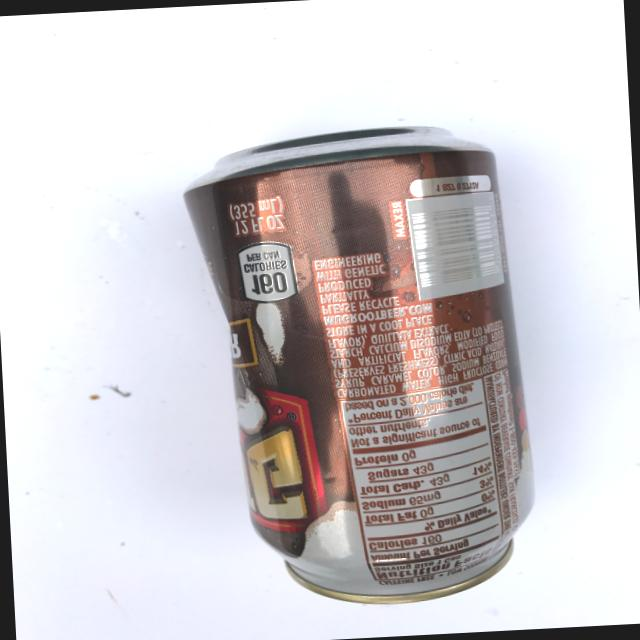Metal: (163, 99, 551, 627)
